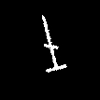double_crochet: (42, 15, 66, 71)
